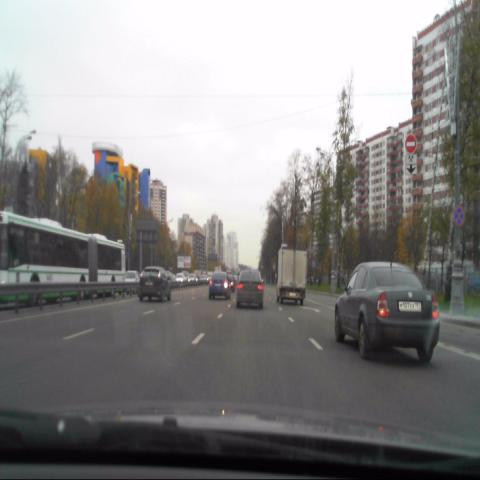3_27: (452, 204, 465, 226)
